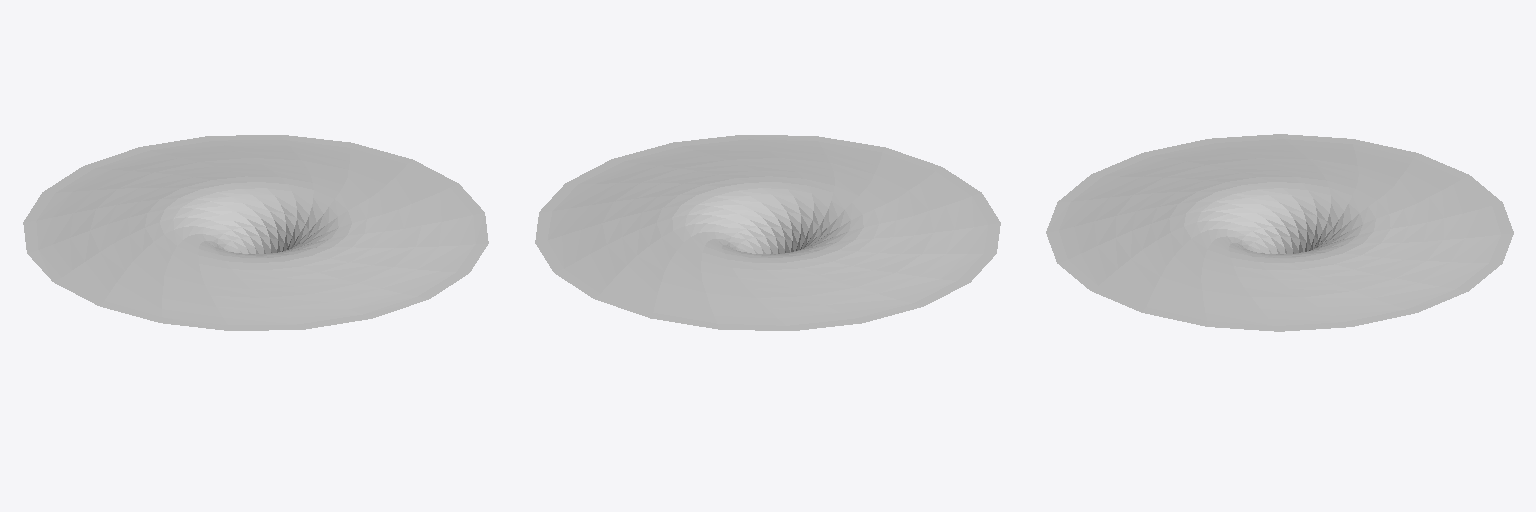
The model's file is Eye of Storm2.obj.
3 views of the same model, side by side, from view 1: azimuth 30°, elevation 25°; view 2: azimuth 150°, elevation 25°; view 3: azimuth 270°, elevation 25° (orthographic).
Parts seen in each view (by area): view 1: Eye_of_Storm:pCylinder1; view 2: Eye_of_Storm:pCylinder1; view 3: Eye_of_Storm:pCylinder1.
Boxes of the visible parts, <box> form: Eye_of_Storm:pCylinder1: <box>23,135,488,330</box>; Eye_of_Storm:pCylinder1: <box>535,135,1000,330</box>; Eye_of_Storm:pCylinder1: <box>1046,134,1513,331</box>.
Size of the model in its own units: 27.39 by 4.31 by 27.39.